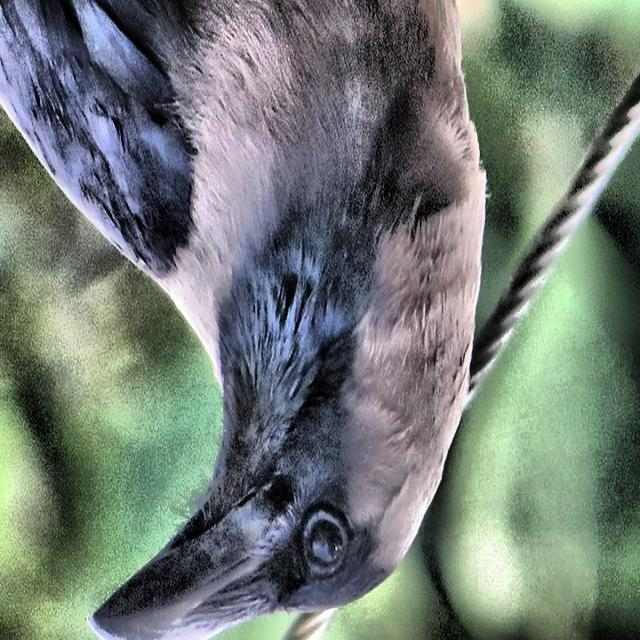crow: (1, 0, 496, 640)
